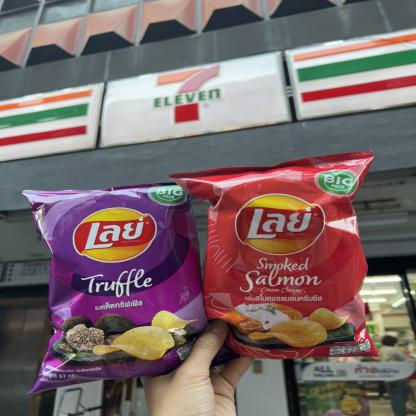potatochip: (156, 147, 392, 369), (20, 178, 230, 402)
